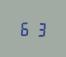six: (19, 19, 31, 36)
three: (32, 19, 44, 37)
